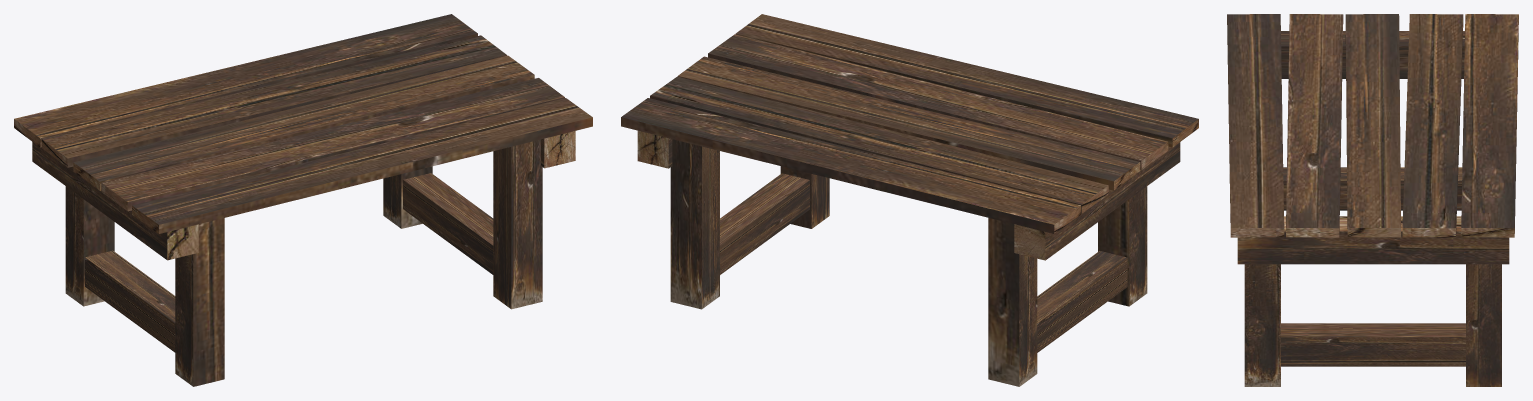
Rendered from Table_1.glb.
3 renders of one model, left to right at view 1: azimuth 30°, elevation 25°; view 2: azimuth 150°, elevation 25°; view 3: azimuth 270°, elevation 25°, orthographic.
Parts seen in each view (by area): view 1: Cube.015; view 2: Cube.015; view 3: Cube.015.
Boxes of the visible parts, bbox=[...] form: Cube.015: bbox=[14, 14, 592, 386]; Cube.015: bbox=[621, 14, 1198, 386]; Cube.015: bbox=[1227, 14, 1518, 386].
Bounding box in the file's own units: 2.91 × 1.14 × 1.68.
Materials: 1 (1 with a texture image).
